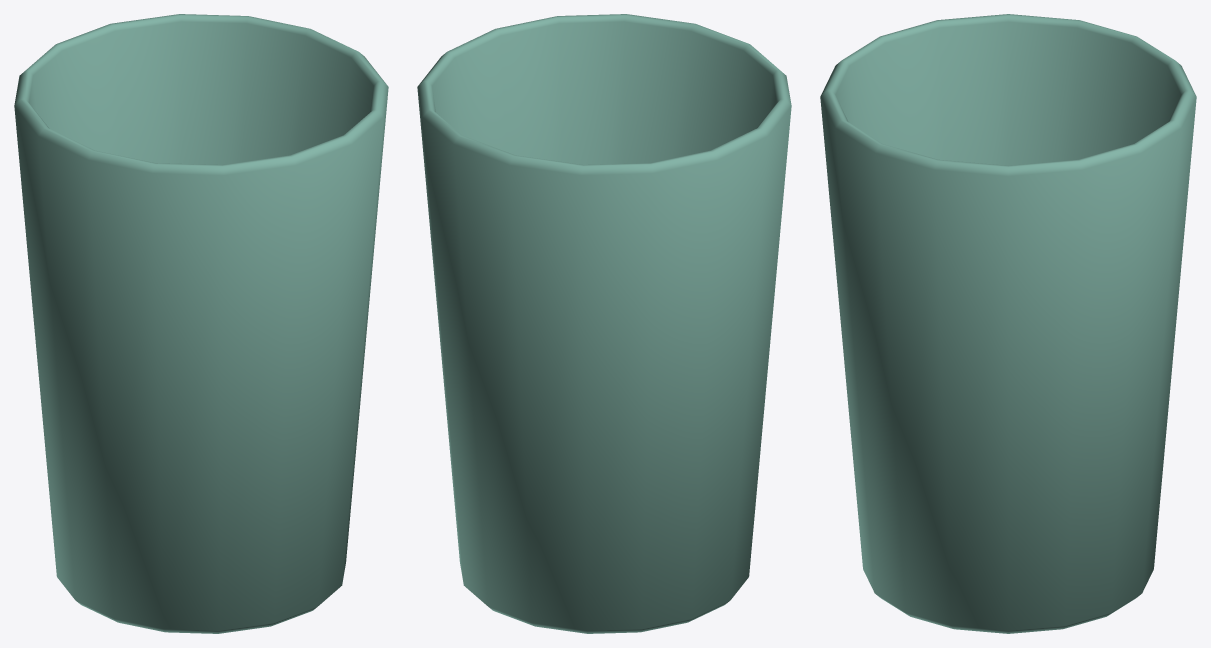
File: DrinkingGlass001.FBX
3 renders of one model, left to right at view 1: azimuth 30°, elevation 25°; view 2: azimuth 150°, elevation 25°; view 3: azimuth 270°, elevation 25°, orthographic.
Visible parts, largest first — view 1: Glass001; view 2: Glass001; view 3: Glass001.
Part boxes in pixels (x1=…): Glass001: x1=14, y1=14, x2=388, y2=633; Glass001: x1=417, y1=14, x2=791, y2=633; Glass001: x1=820, y1=14, x2=1196, y2=633.
Size of the model in its own units: 5.32 by 7.56 by 5.32.
